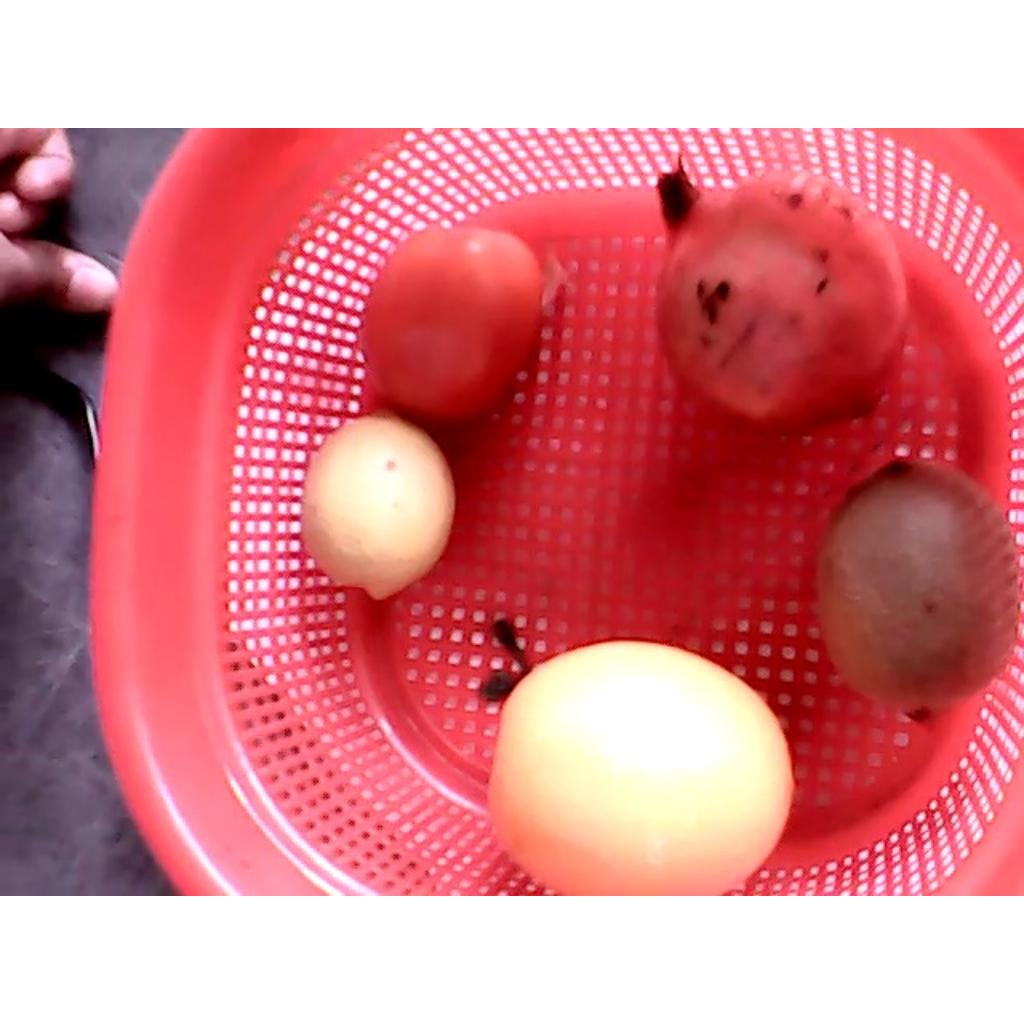apple: (816, 455, 1017, 721)
lemon: (302, 417, 454, 604)
orange: (490, 640, 796, 894)
pomegranate: (658, 154, 909, 438)
tomato: (355, 228, 542, 420)
